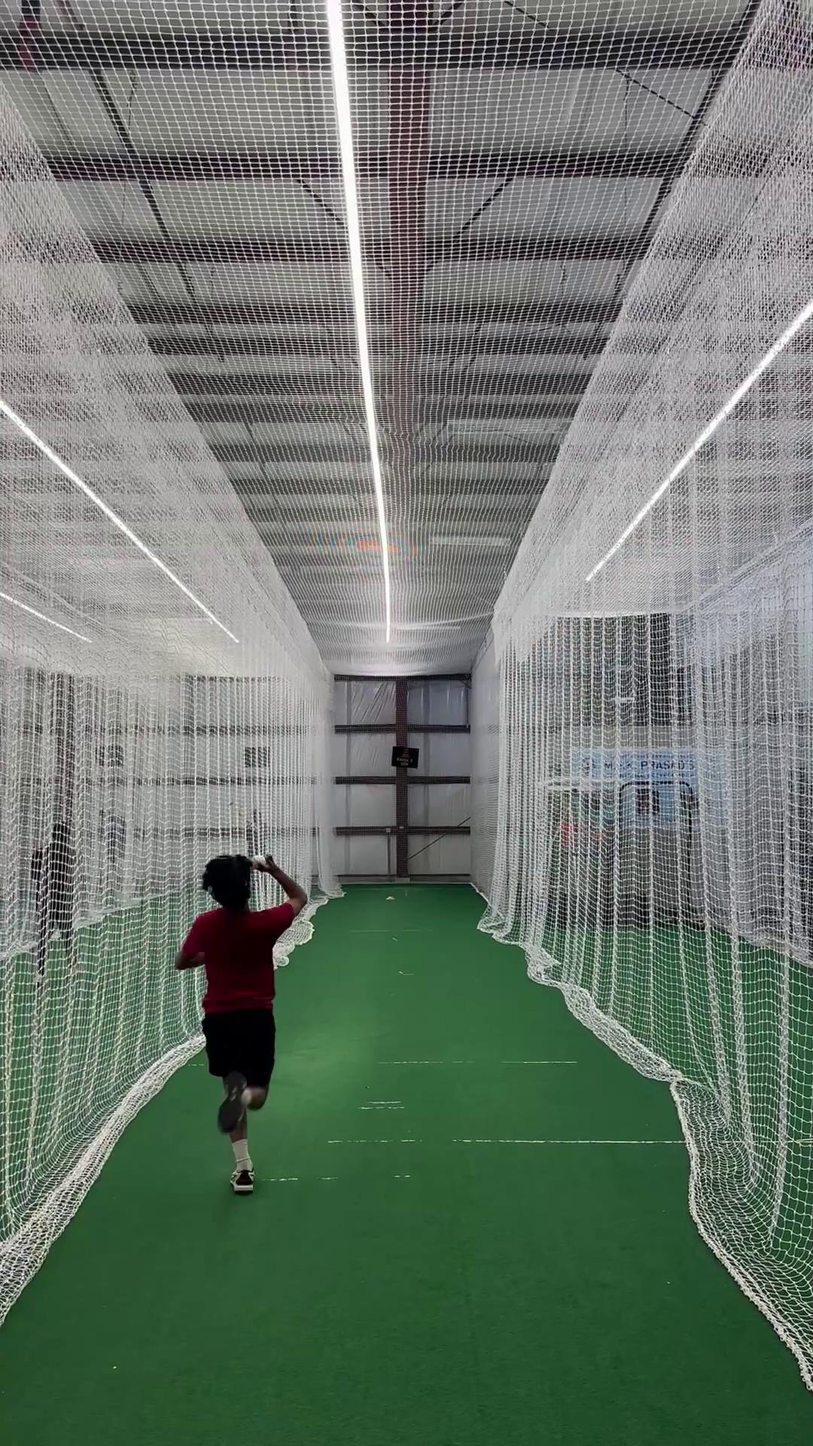ball: (247, 850, 272, 872)
